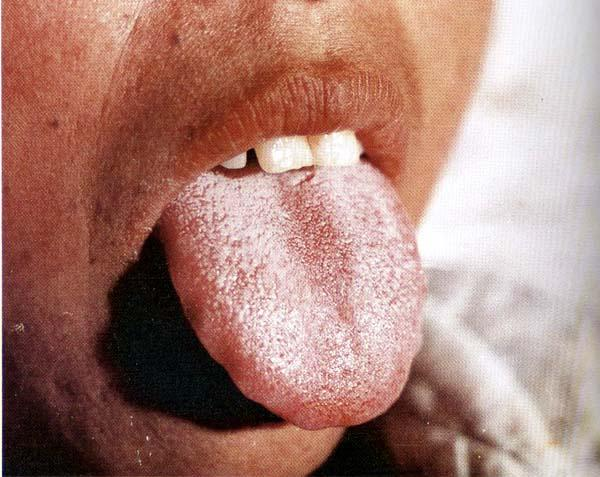baitaishe: (167, 157, 427, 431)
hongshe: (167, 157, 427, 431)
